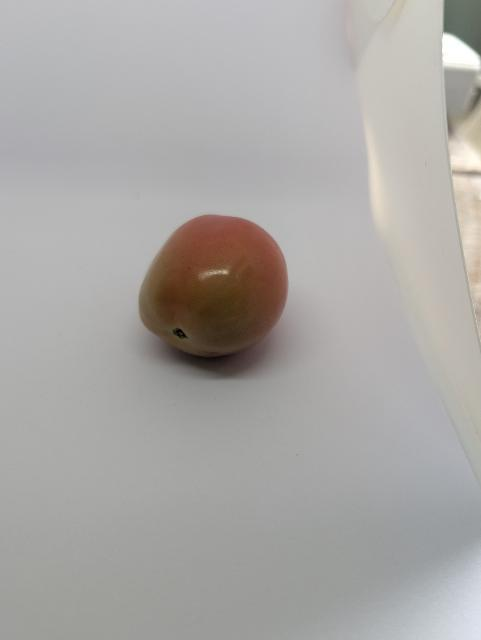turning: (137, 210, 293, 363)
